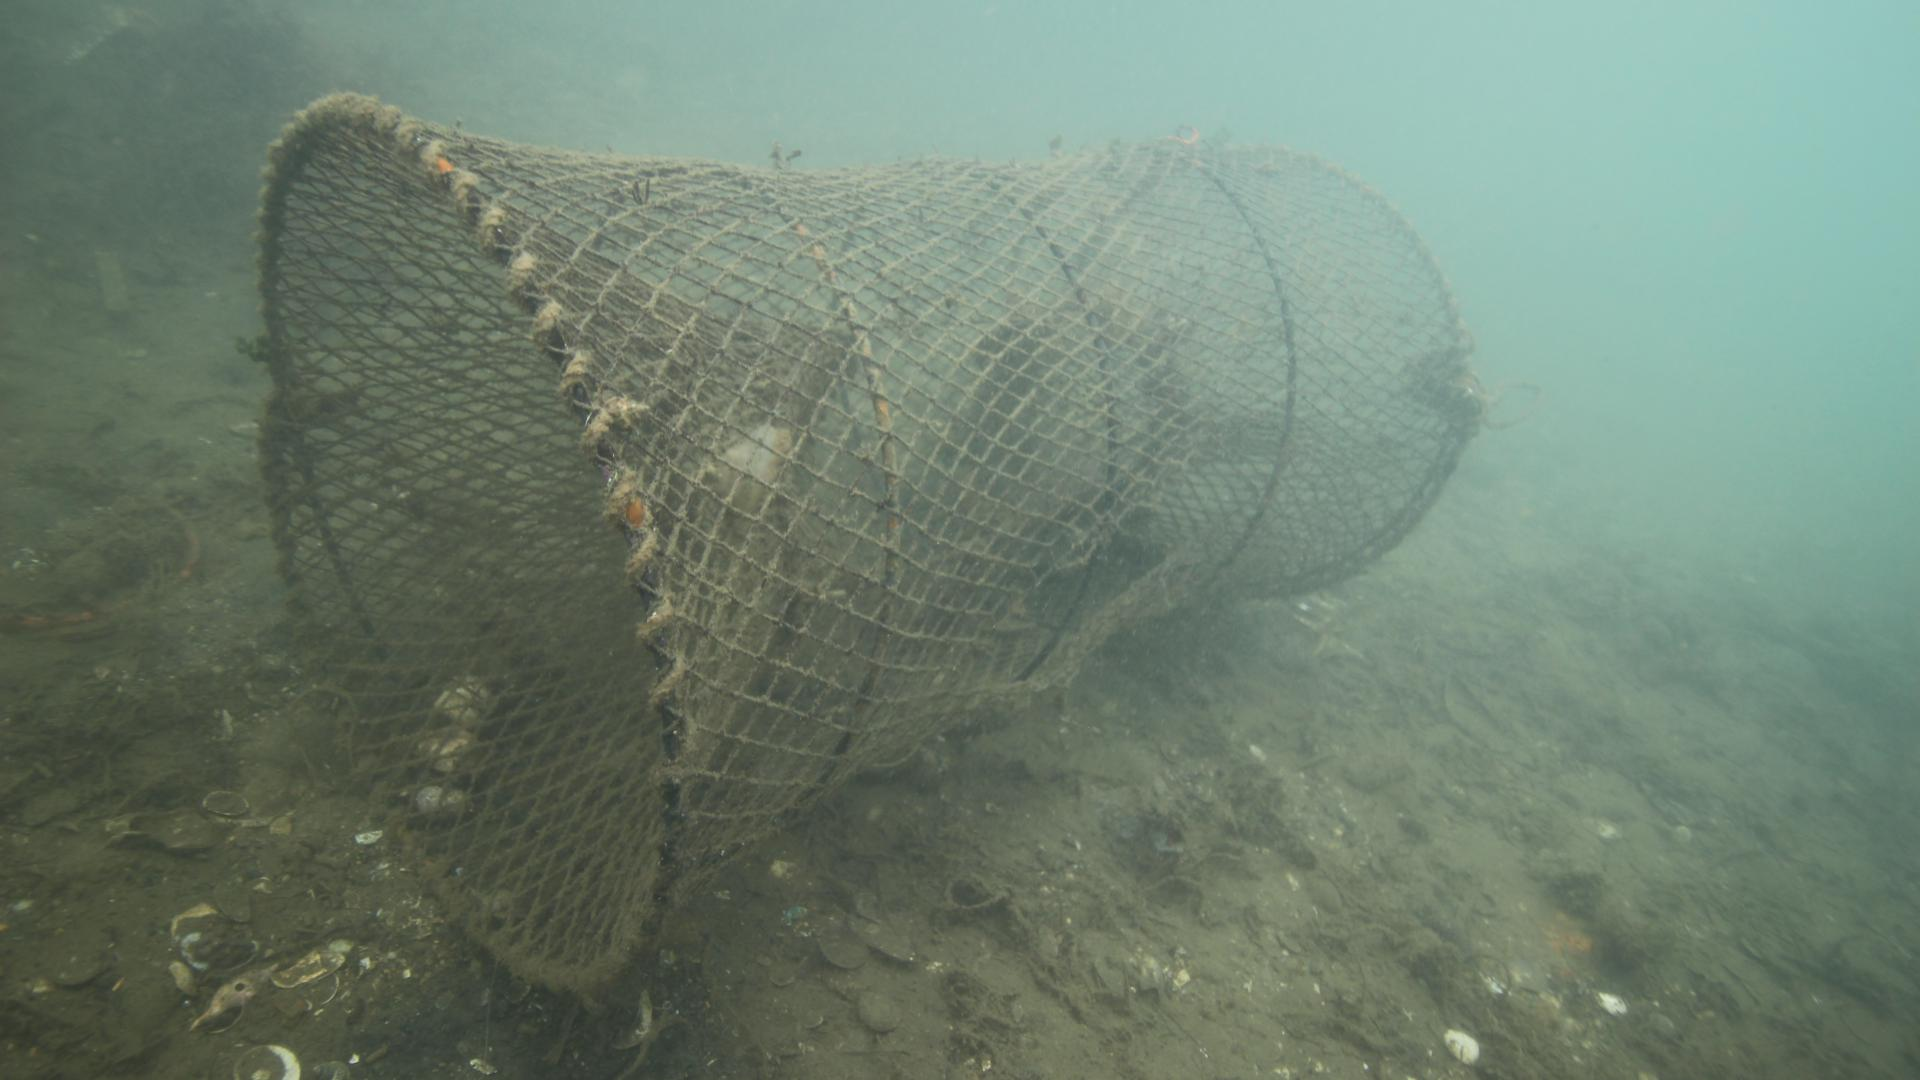spring fish trap: (251, 84, 1472, 1006)
